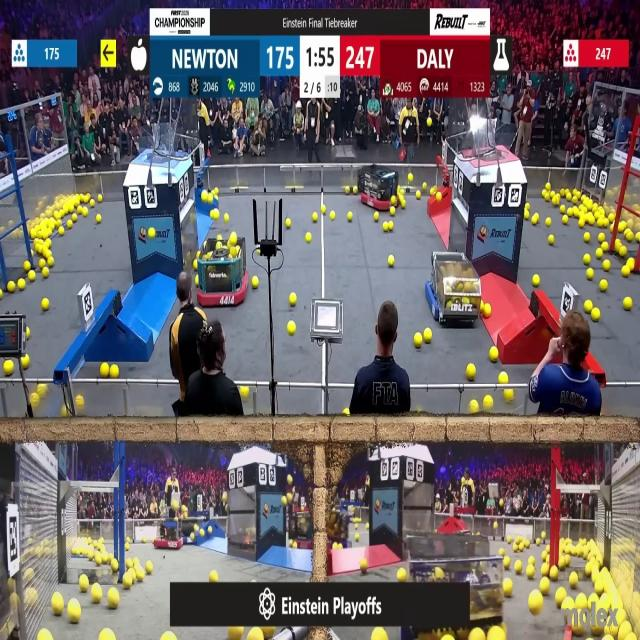ball_airborne: (249, 628, 261, 640), (172, 498, 180, 509), (148, 227, 155, 239), (182, 505, 188, 514), (287, 476, 292, 486), (426, 118, 432, 126), (282, 496, 287, 505), (499, 498, 504, 506)
ball_ground: (528, 592, 542, 614), (68, 601, 80, 623), (54, 594, 65, 616), (108, 590, 119, 609), (502, 580, 512, 598), (92, 587, 102, 604), (556, 589, 566, 606), (79, 577, 88, 593), (396, 568, 406, 582), (109, 363, 118, 378), (490, 347, 499, 362), (466, 363, 475, 378), (122, 573, 131, 588), (101, 630, 114, 640), (540, 580, 548, 596), (4, 360, 13, 374), (482, 304, 491, 318), (240, 386, 249, 400), (576, 595, 585, 609), (559, 556, 568, 570), (569, 572, 577, 587), (469, 399, 477, 414), (38, 630, 50, 640), (503, 389, 512, 402), (423, 331, 432, 344), (414, 334, 422, 348), (485, 394, 493, 408), (210, 570, 219, 582), (550, 567, 559, 579), (624, 296, 632, 309), (22, 355, 30, 368), (101, 363, 109, 376), (76, 395, 84, 408), (516, 560, 523, 574), (592, 309, 600, 321), (499, 373, 507, 385), (586, 302, 594, 314), (526, 566, 534, 578), (532, 275, 540, 287), (620, 246, 628, 258), (502, 558, 510, 570), (137, 570, 145, 582), (595, 584, 603, 596), (288, 321, 295, 334), (42, 299, 49, 312), (539, 565, 547, 576), (600, 280, 607, 292), (111, 560, 118, 572), (628, 257, 635, 269), (586, 564, 593, 576), (28, 272, 36, 282), (626, 232, 634, 242), (146, 561, 152, 574), (388, 255, 395, 266), (603, 261, 610, 272), (7, 282, 14, 293), (231, 234, 238, 245), (290, 292, 296, 304), (360, 558, 366, 570), (42, 248, 50, 257), (42, 269, 49, 279), (596, 249, 603, 259), (623, 268, 630, 278), (553, 197, 560, 207), (62, 409, 69, 419), (164, 633, 174, 640), (252, 277, 258, 288), (588, 269, 594, 280), (585, 233, 591, 244), (202, 190, 208, 201), (585, 254, 591, 264), (18, 280, 24, 290), (532, 214, 538, 224), (47, 257, 53, 267), (578, 217, 584, 227), (602, 242, 608, 252), (547, 236, 553, 246), (372, 212, 378, 222), (608, 221, 614, 231), (620, 221, 626, 231), (542, 190, 548, 200), (602, 217, 608, 227), (96, 556, 102, 566), (25, 263, 31, 272), (82, 208, 88, 217), (212, 210, 218, 219), (390, 207, 396, 216), (524, 211, 530, 220), (286, 218, 292, 227), (128, 559, 134, 568), (540, 553, 546, 562), (588, 600, 594, 609), (430, 185, 436, 194), (313, 212, 318, 222), (635, 233, 640, 243), (545, 217, 551, 225), (435, 192, 441, 200), (68, 220, 74, 228), (498, 549, 504, 557), (528, 557, 534, 565), (123, 542, 129, 550), (566, 208, 572, 216), (616, 240, 622, 248), (45, 240, 51, 248), (492, 522, 498, 530), (307, 234, 312, 243), (563, 215, 568, 224), (348, 212, 353, 221), (97, 214, 102, 223), (599, 234, 604, 243), (40, 258, 45, 267), (561, 206, 566, 215), (60, 226, 65, 235), (409, 174, 414, 183), (391, 197, 396, 206), (26, 328, 31, 337), (344, 410, 350, 417), (544, 183, 550, 190), (352, 186, 358, 193), (524, 203, 530, 210), (214, 187, 220, 194), (331, 542, 337, 549), (98, 194, 103, 202), (355, 533, 360, 541), (400, 201, 405, 209), (91, 200, 96, 208), (0, 289, 4, 299), (384, 221, 388, 230), (192, 263, 196, 272), (142, 536, 148, 542), (506, 535, 511, 542), (514, 543, 519, 550), (417, 190, 421, 198), (224, 214, 228, 222), (330, 212, 334, 220), (194, 278, 198, 286), (339, 542, 344, 548), (363, 524, 369, 529), (321, 207, 325, 214), (423, 186, 427, 193), (346, 186, 350, 193), (72, 214, 76, 221), (217, 235, 221, 242), (208, 527, 212, 534), (536, 538, 540, 545), (256, 249, 260, 255), (195, 252, 199, 258), (355, 524, 359, 529)
goal: (463, 120, 520, 160), (130, 130, 188, 160)
robot_blue: (423, 255, 479, 328), (330, 508, 355, 548)
robot_red: (195, 238, 247, 308), (357, 163, 397, 209), (156, 518, 186, 548), (286, 516, 311, 546)
